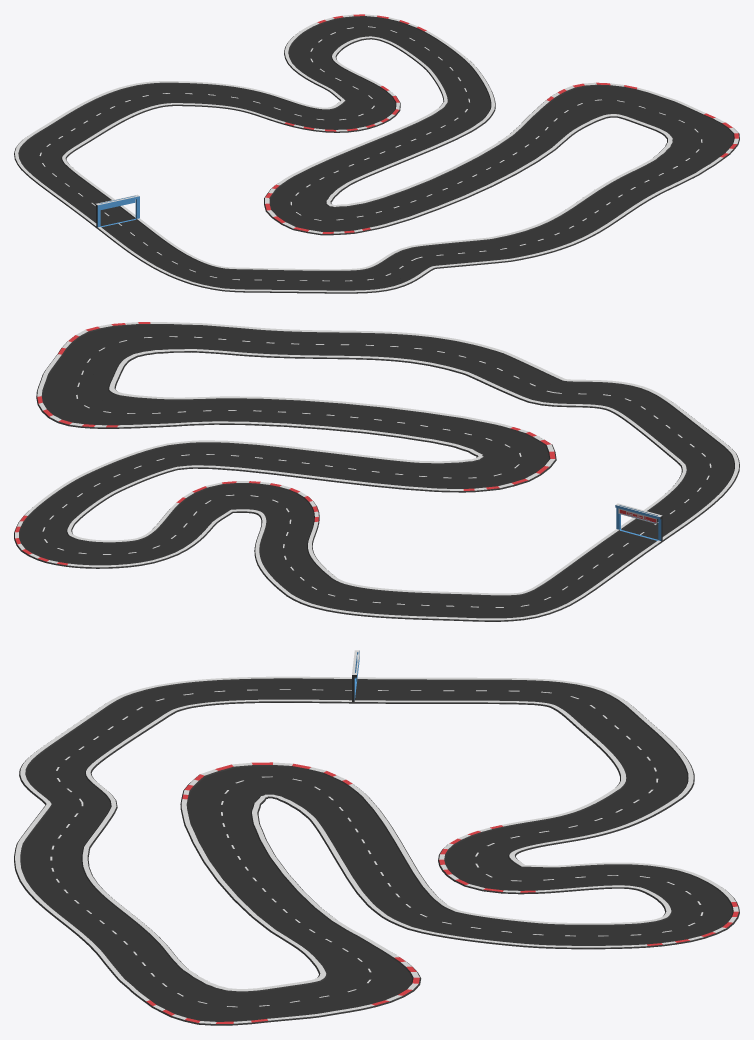
The model's file is track.glb.
3 renders of one model, top to bottom at view 1: azimuth 30°, elevation 25°; view 2: azimuth 150°, elevation 25°; view 3: azimuth 270°, elevation 25°, orthographic. The views are drawn at different scales.
Visible parts, largest first — view 1: Track, Dashes; view 2: Track, Dashes; view 3: Track, Dashes.
Part boxes in pixels (x1=…): Track: x1=14, y1=14, x2=739, y2=293; Dashes: x1=39, y1=26, x2=702, y2=281; Track: x1=14, y1=322, x2=739, y2=621; Dashes: x1=42, y1=336, x2=711, y2=607; Track: x1=14, y1=650, x2=739, y2=1025; Dashes: x1=50, y1=689, x2=703, y2=1007.
Bounding box in the file's own units: 6.02 × 0.2336 × 5.3.
